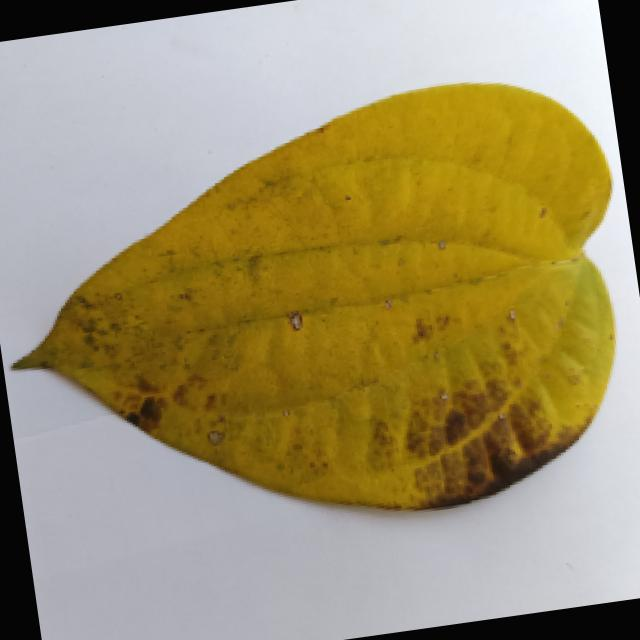slow-decline: (0, 68, 637, 569)
